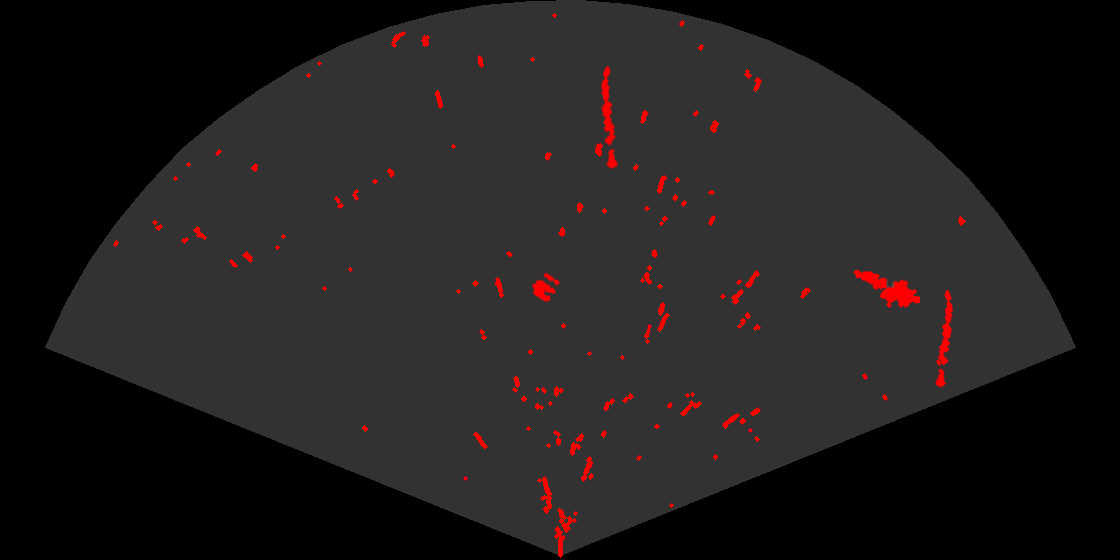ball: (530, 271, 561, 304)
chain: (934, 288, 955, 390), (599, 64, 619, 171)
frogman: (852, 268, 920, 310)
